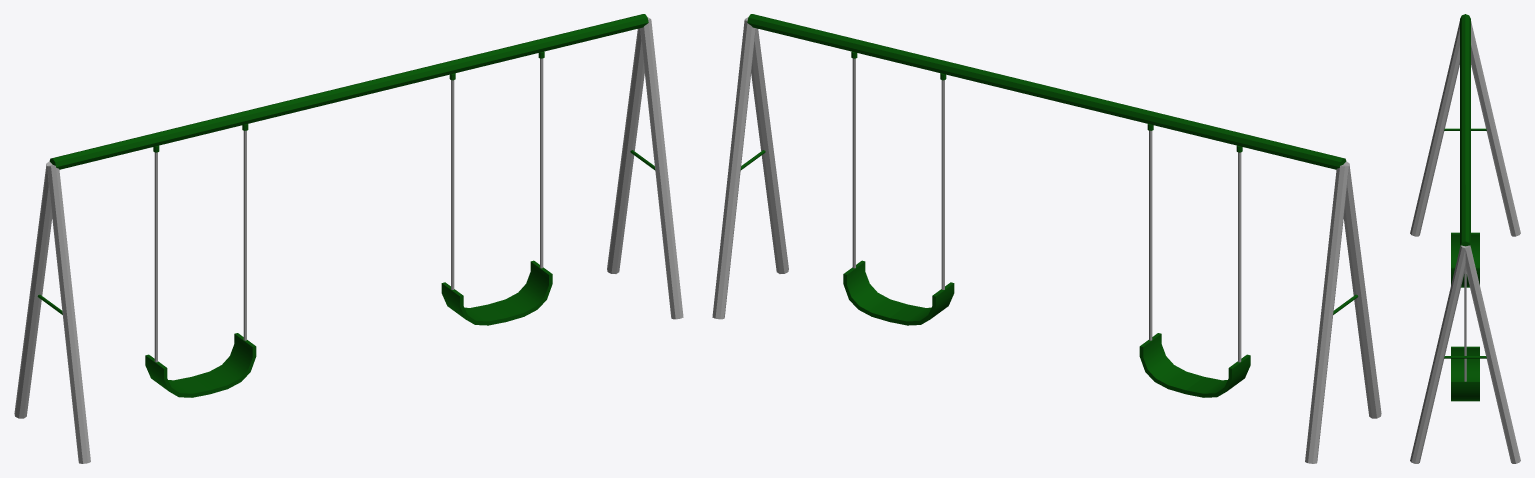
Rendered from Swings.fbx.
3 renders of one model, left to right at view 1: azimuth 30°, elevation 25°; view 2: azimuth 150°, elevation 25°; view 3: azimuth 270°, elevation 25°, orthographic. The views are drawn at different scales.
Visible parts, largest first — view 1: Swing_base, Swing02, Swing01; view 2: Swing_base, Swing02, Swing01; view 3: Swing_base, Swing02, Swing01.
Boxes of the visible parts, x1,y1,x2,y2 form: Swing_base: (14, 14, 683, 463); Swing02: (441, 58, 552, 325); Swing01: (145, 130, 256, 397); Swing_base: (712, 14, 1381, 463); Swing02: (843, 58, 954, 325); Swing01: (1139, 130, 1250, 397); Swing_base: (1410, 14, 1520, 463); Swing02: (1451, 268, 1479, 401); Swing01: (1451, 232, 1479, 287).
Size of the model in its own units: 1019 by 454 by 206.
